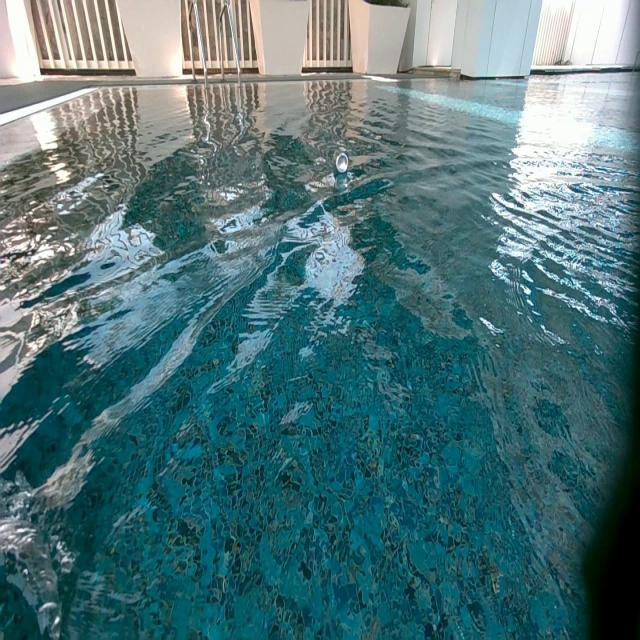Cans: (336, 153, 350, 173)
